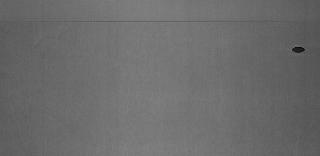punching hole: (288, 45, 308, 55)
welding line: (1, 17, 320, 27)
